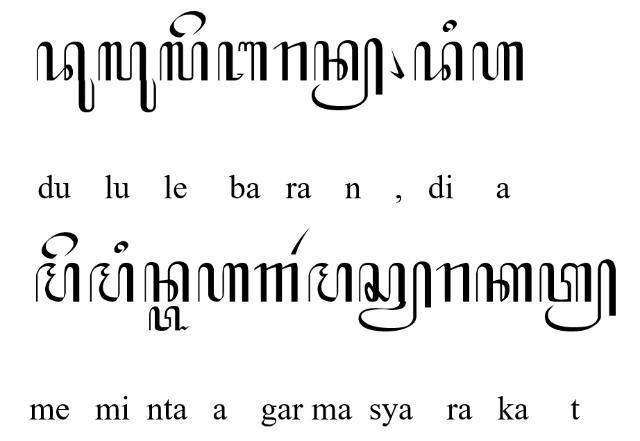-n: (311, 38, 383, 110)
-t: (538, 260, 618, 332)
_r1: (290, 227, 312, 255)
_t: (148, 306, 190, 332)
b: (218, 40, 268, 82)
d: (413, 40, 462, 82)
du: (36, 41, 96, 113)
e: (169, 10, 207, 38), (41, 232, 78, 260)
g: (254, 262, 298, 304)
h: (471, 40, 523, 82), (198, 262, 248, 304)
i: (113, 240, 129, 254), (442, 20, 458, 32)
k: (475, 263, 533, 303)
kom: (388, 46, 404, 79)
l: (160, 40, 208, 82)
lu: (99, 40, 158, 114)
m: (308, 261, 352, 303), (36, 263, 80, 303), (90, 262, 134, 302)
n: (144, 260, 190, 304)
r: (274, 42, 308, 82), (436, 263, 470, 303)
sy: (358, 260, 432, 332)
